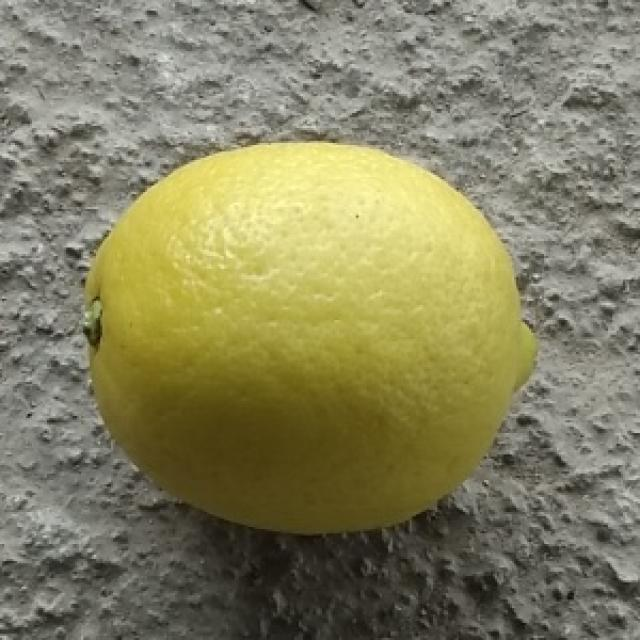Ripe: (71, 138, 541, 540)
